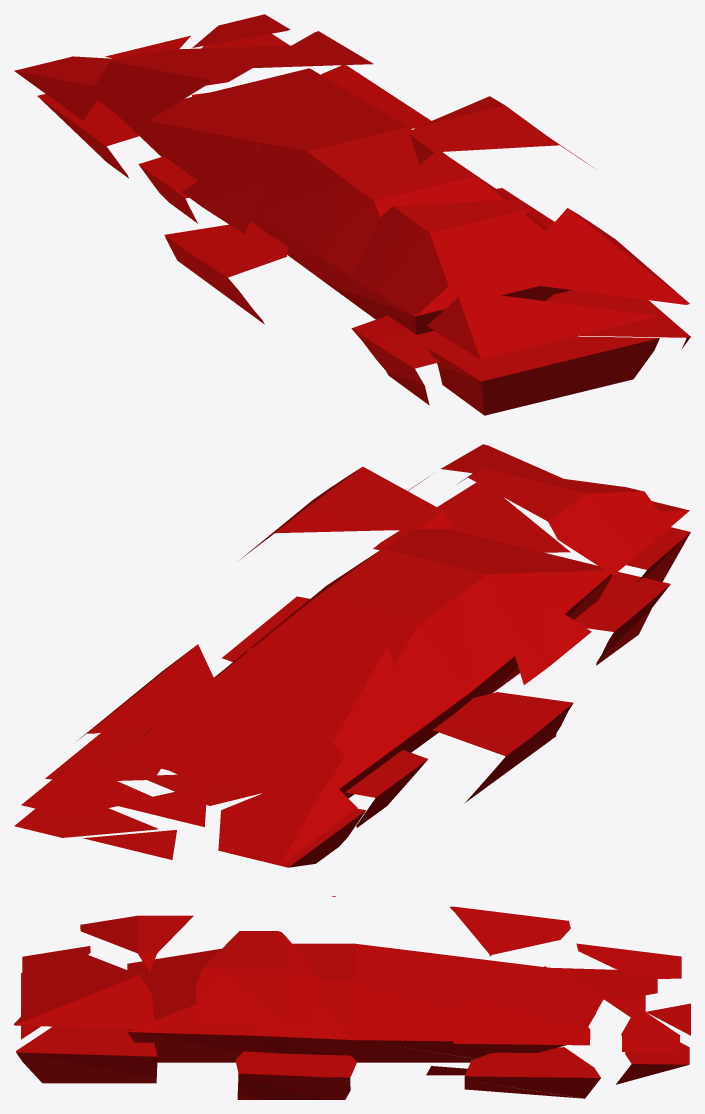
Rendered from car1.glb.
3 renders of one model, top to bottom at view 1: azimuth 30°, elevation 25°; view 2: azimuth 150°, elevation 25°; view 3: azimuth 270°, elevation 25°, orthographic. The views are drawn at different scales.
Visible parts, largest first — view 1: car, xplod; view 2: car, xplod; view 3: car, xplod.
Part boxes in pixels (x1,y1,x2,y2): car: [14, 14, 690, 415]; xplod: [118, 68, 571, 334]; car: [14, 444, 690, 867]; xplod: [116, 528, 612, 798]; car: [14, 896, 690, 1099]; xplod: [127, 943, 575, 1062].
Size of the model in its own units: 2.37 by 1.17 by 5.7.
